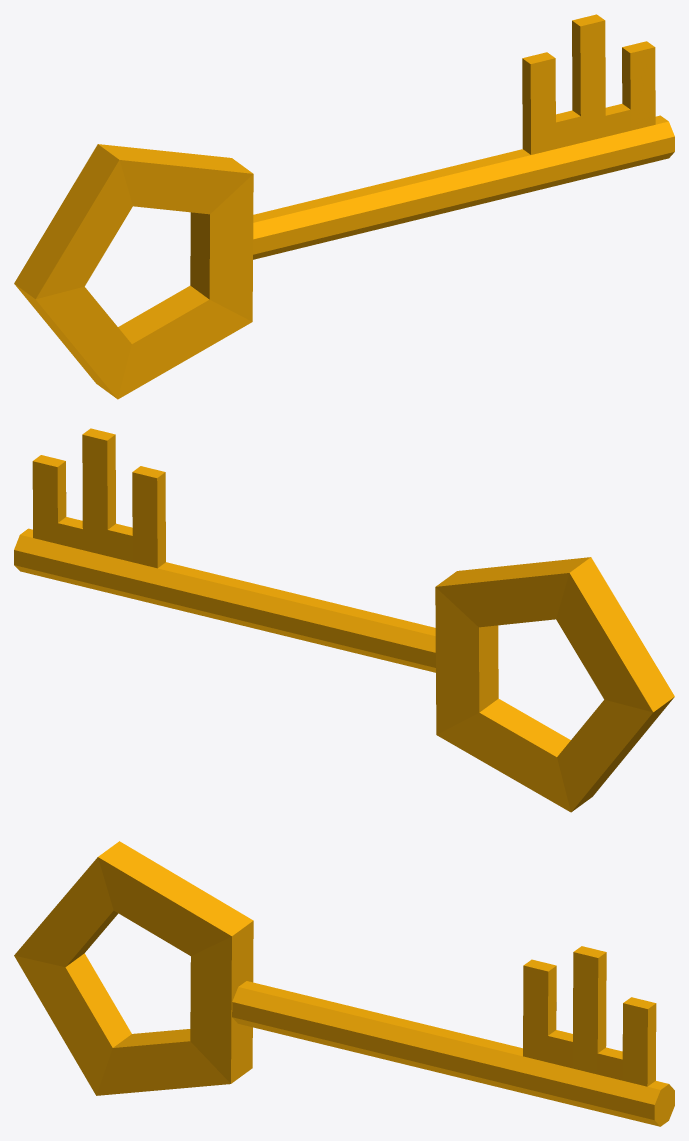
The model's file is Gold Key.fbx.
3 views of the same model, one above another, from view 1: azimuth 30°, elevation 25°; view 2: azimuth 150°, elevation 25°; view 3: azimuth 330°, elevation 25° (orthographic).
Parts seen in each view (by area): view 1: Circle.002; view 2: Circle.002; view 3: Circle.002.
Part boxes in pixels (<box>): Circle.002: <box>14,14,674,399</box>; Circle.002: <box>14,428,674,812</box>; Circle.002: <box>14,841,674,1126</box>.
Bounding box in the file's own units: 39.45 × 14.91 × 2.31.
